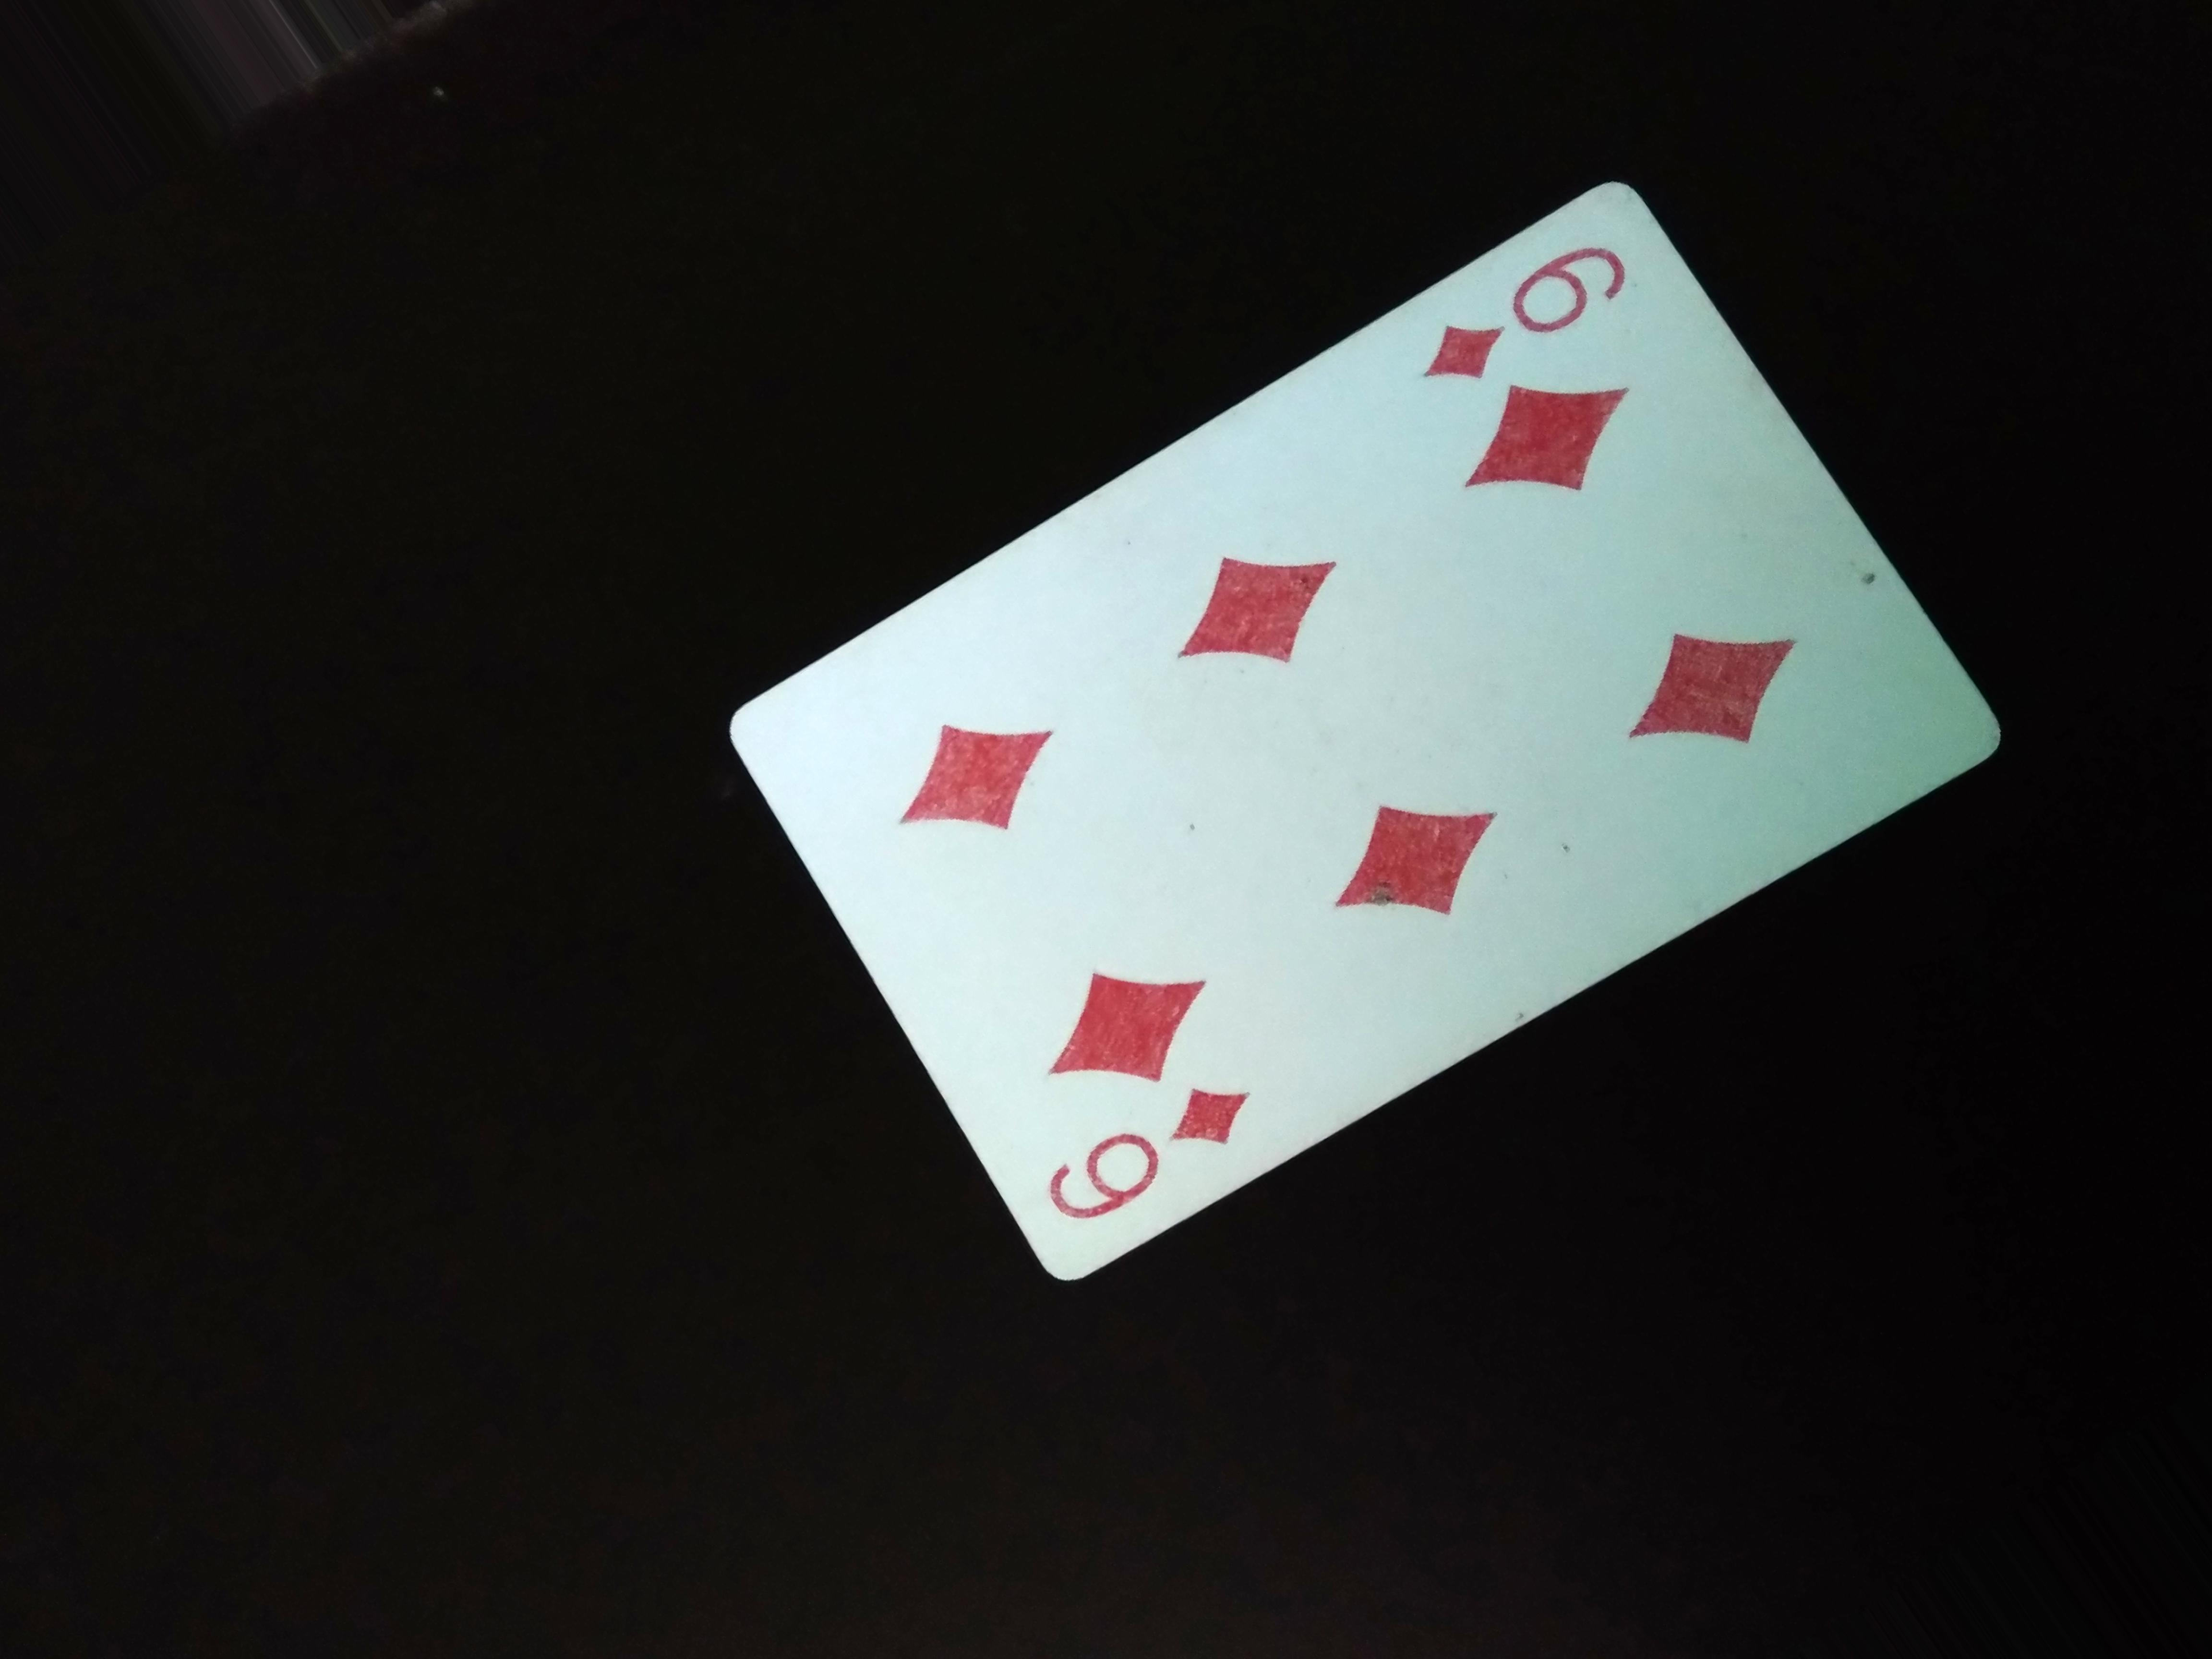6D: (1420, 230, 1637, 396)
